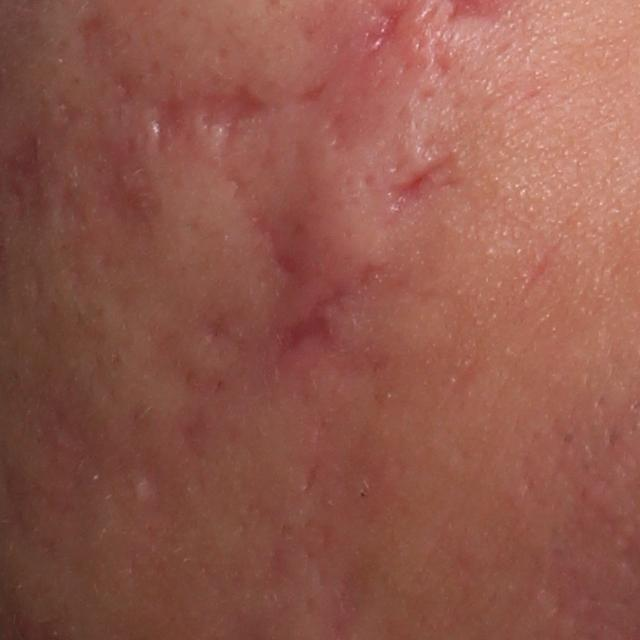atrophic_scar: (48, 107, 172, 254), (270, 262, 387, 364), (227, 173, 306, 291), (149, 82, 271, 150), (383, 150, 462, 228), (131, 315, 201, 390), (428, 27, 465, 87)
hypertrophic_scar: (268, 151, 384, 326), (186, 105, 232, 165)
